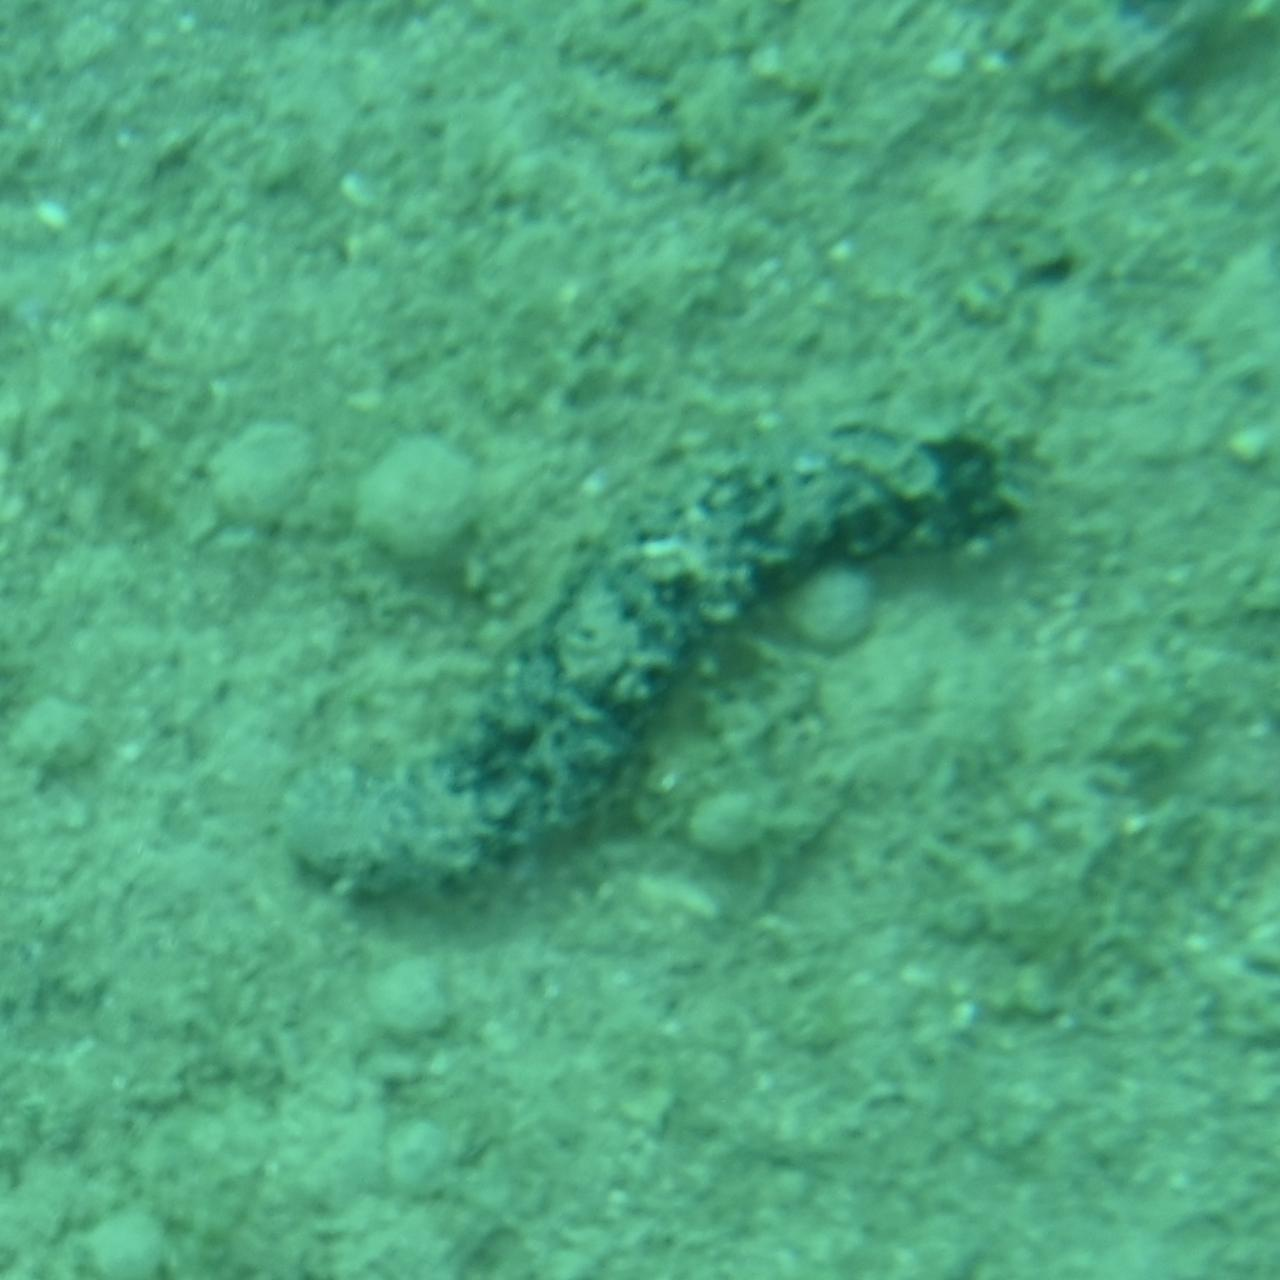Holothuria tubulosa: (253, 396, 1027, 884)
